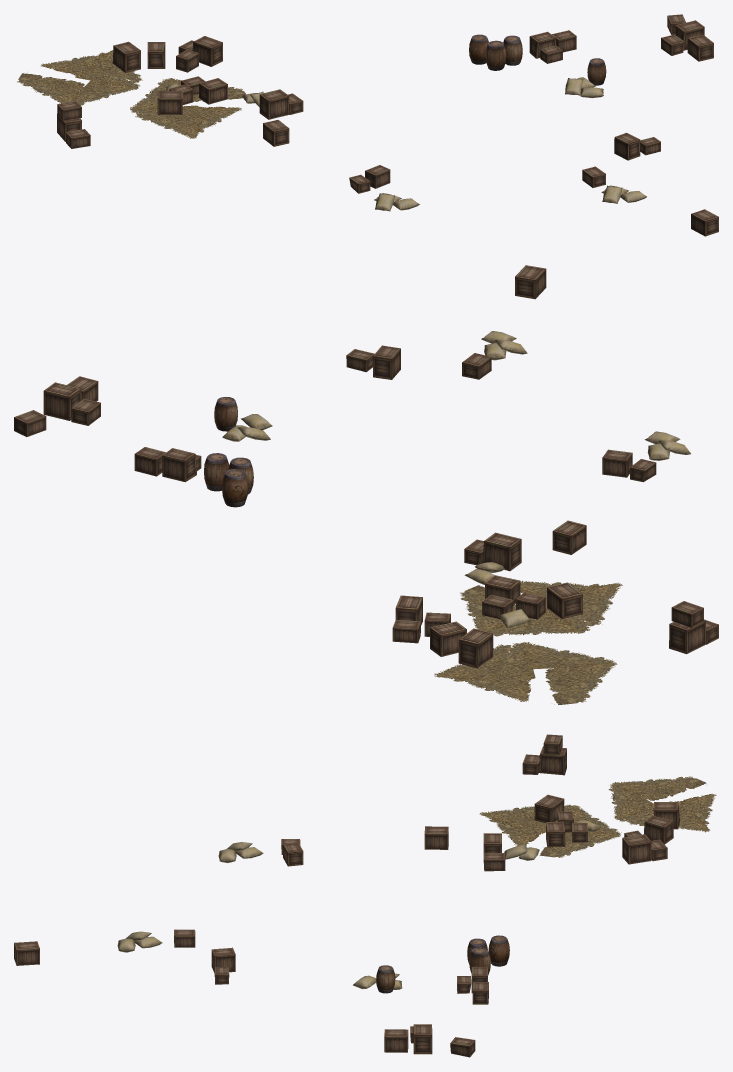
File: yingdwujian.FBX
3 renders of one model, top to bottom at view 1: azimuth 30°, elevation 25°; view 2: azimuth 150°, elevation 25°; view 3: azimuth 270°, elevation 25°, orthographic. The views are drawn at different scales.
Parts seen in each view (by area): view 1: Object056, hfl_building_room004, Object050, hyd_thing_misc006a001, 010, 019, Object052, 013, Object055, Object053, Object051, Object054 (+1 smaller); view 2: hfl_building_room004, Object056, Object050, hyd_thing_misc006a001, 019, 010, Object052, 013, Object055, Object053, Object054, Object051 (+1 smaller); view 3: hfl_building_room004, Object056, Object050, 019, hyd_thing_misc006a001, Object052, 010, 013, Object053, Object054, Object055.
Part boxes in pixels (<box>): Object056: <box>17,36,222,105</box>; hfl_building_room004: <box>130,76,303,146</box>; Object050: <box>661,14,713,61</box>; hyd_thing_misc006a001: <box>469,34,522,70</box>; 010: <box>529,30,576,63</box>; 019: <box>57,101,90,148</box>; Object052: <box>582,166,646,203</box>; 013: <box>614,132,660,160</box>; Object055: <box>349,165,390,193</box>; Object053: <box>691,209,718,236</box>; Object051: <box>565,77,603,98</box>; Object054: <box>374,193,419,211</box>; hfl_building_room004: <box>460,520,622,636</box>; Object056: <box>392,595,617,704</box>; Object050: <box>14,376,100,436</box>; hyd_thing_misc006a001: <box>204,453,253,507</box>; 019: <box>669,601,718,654</box>; 010: <box>134,447,201,482</box>; Object052: <box>462,331,527,379</box>; 013: <box>346,345,400,379</box>; Object055: <box>602,449,656,482</box>; Object053: <box>515,265,546,299</box>; Object054: <box>645,431,690,460</box>; Object051: <box>222,414,272,441</box>; hfl_building_room004: <box>424,794,621,871</box>; Object056: <box>608,776,716,864</box>; Object050: <box>384,1024,475,1057</box>; 019: <box>522,734,566,775</box>; hyd_thing_misc006a001: <box>467,935,509,975</box>; Object052: <box>117,929,195,952</box>; 010: <box>457,966,488,1004</box>; 013: <box>211,947,235,984</box>; Object053: <box>14,941,39,965</box>; Object054: <box>218,842,263,863</box>; Object055: <box>281,839,303,866</box>.
Size of the model in its own units: 28.56 by 1.48 by 29.02.
